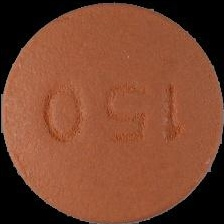66116-518: (0, 0, 224, 224)
